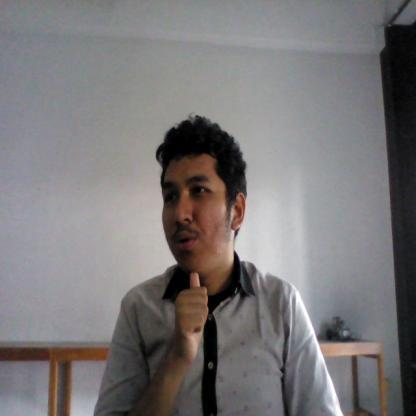Siapa: (171, 264, 214, 362)
